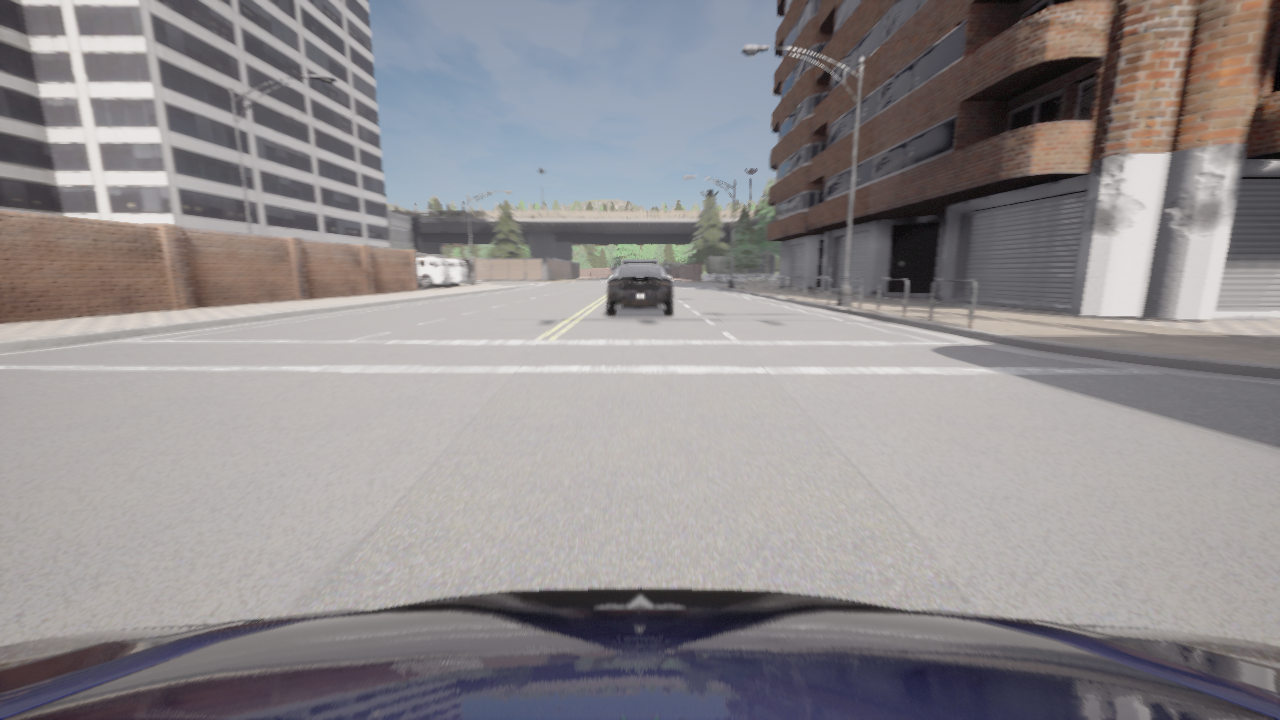cyclist: (0, 588, 1279, 719), (607, 259, 672, 315), (419, 255, 468, 286), (417, 253, 452, 288)
